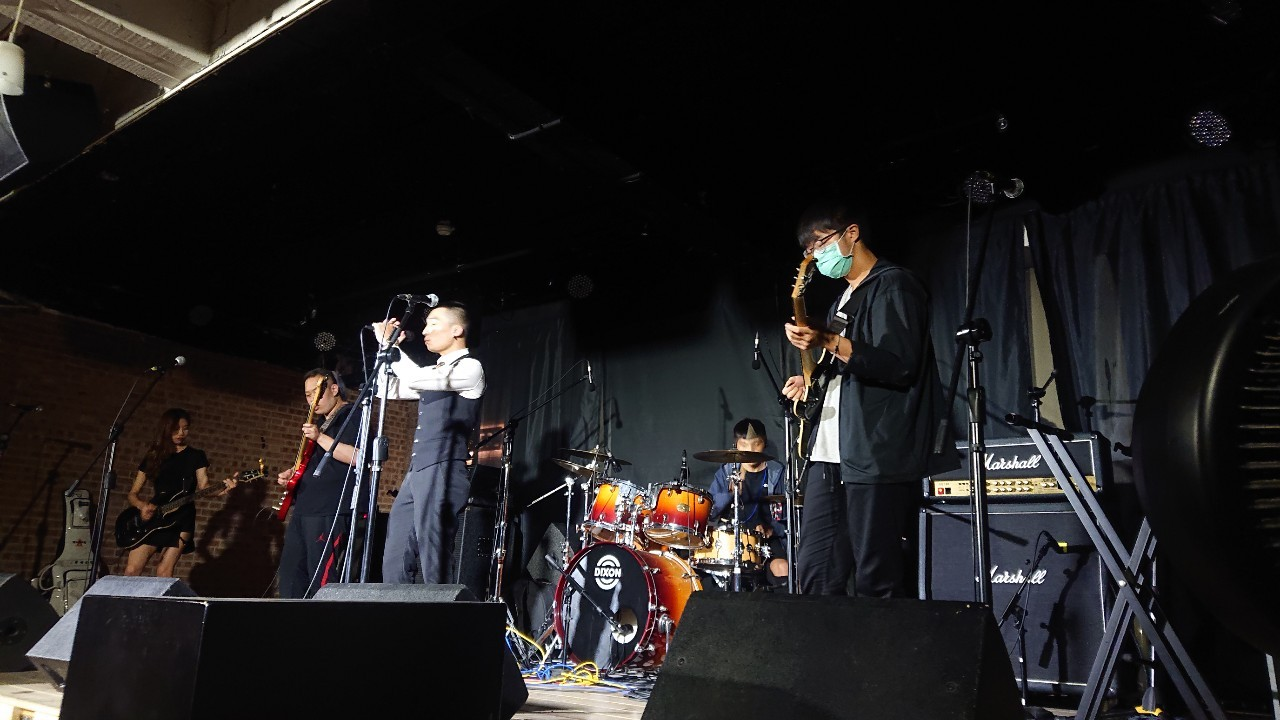people: (777, 209, 942, 582), (395, 304, 468, 589), (295, 375, 348, 598), (717, 413, 778, 535), (149, 409, 193, 578)
